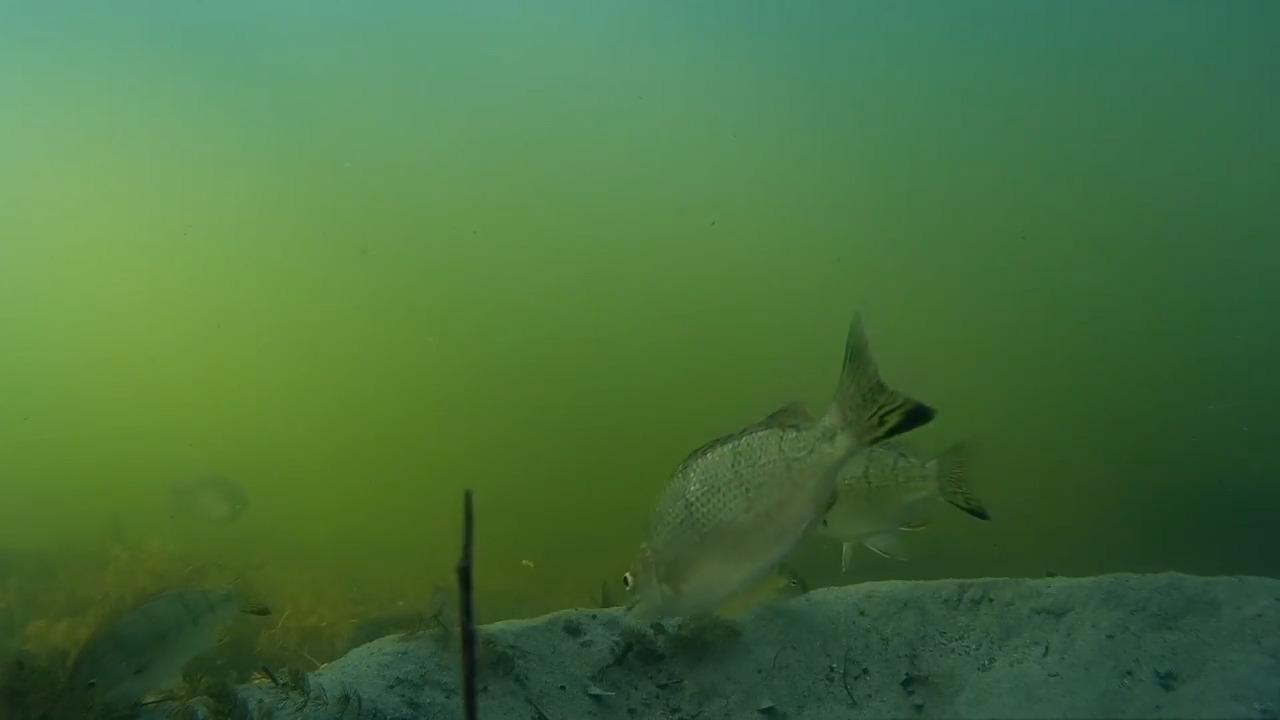Tilapia: (610, 390, 997, 610), (27, 567, 290, 705), (790, 436, 1037, 580), (158, 450, 271, 546)
